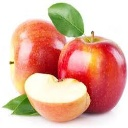apple: (23, 72, 91, 122)
